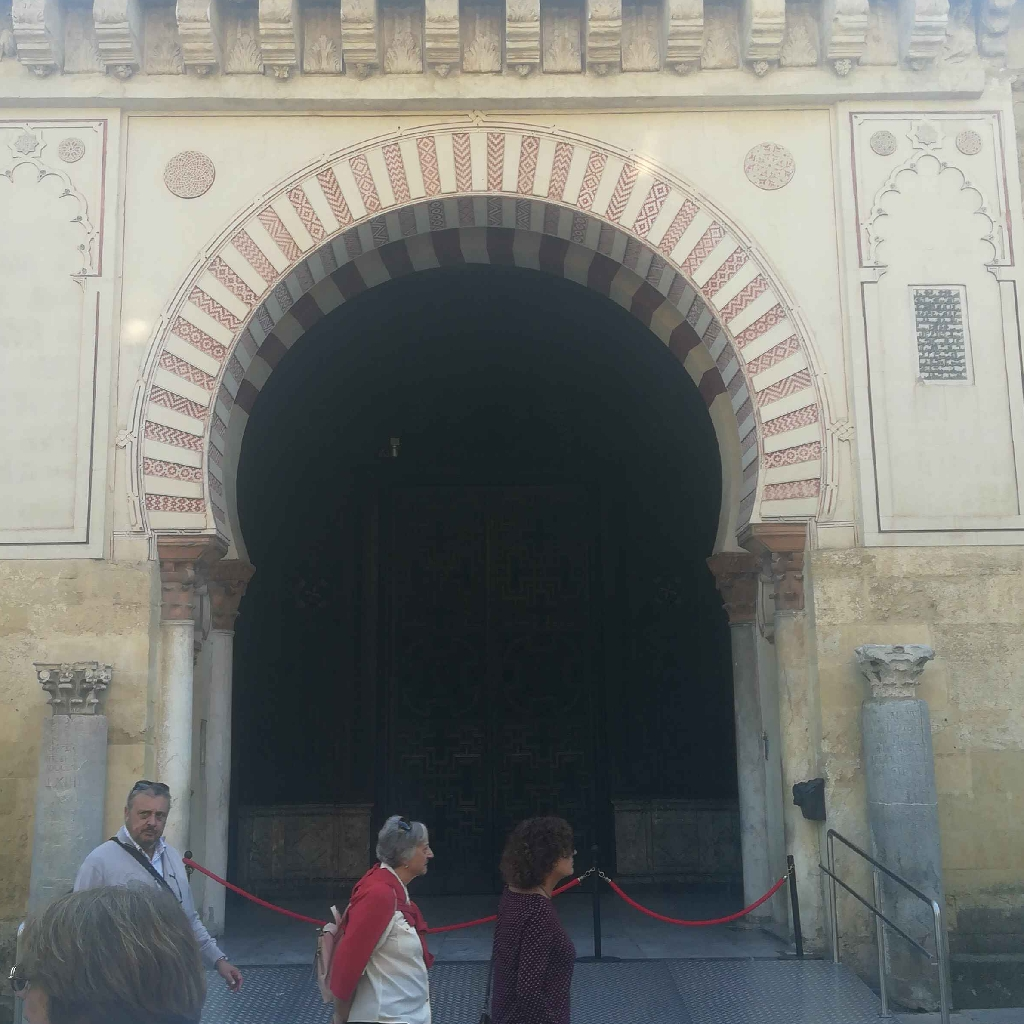arco-herradura: (165, 163, 792, 602)
